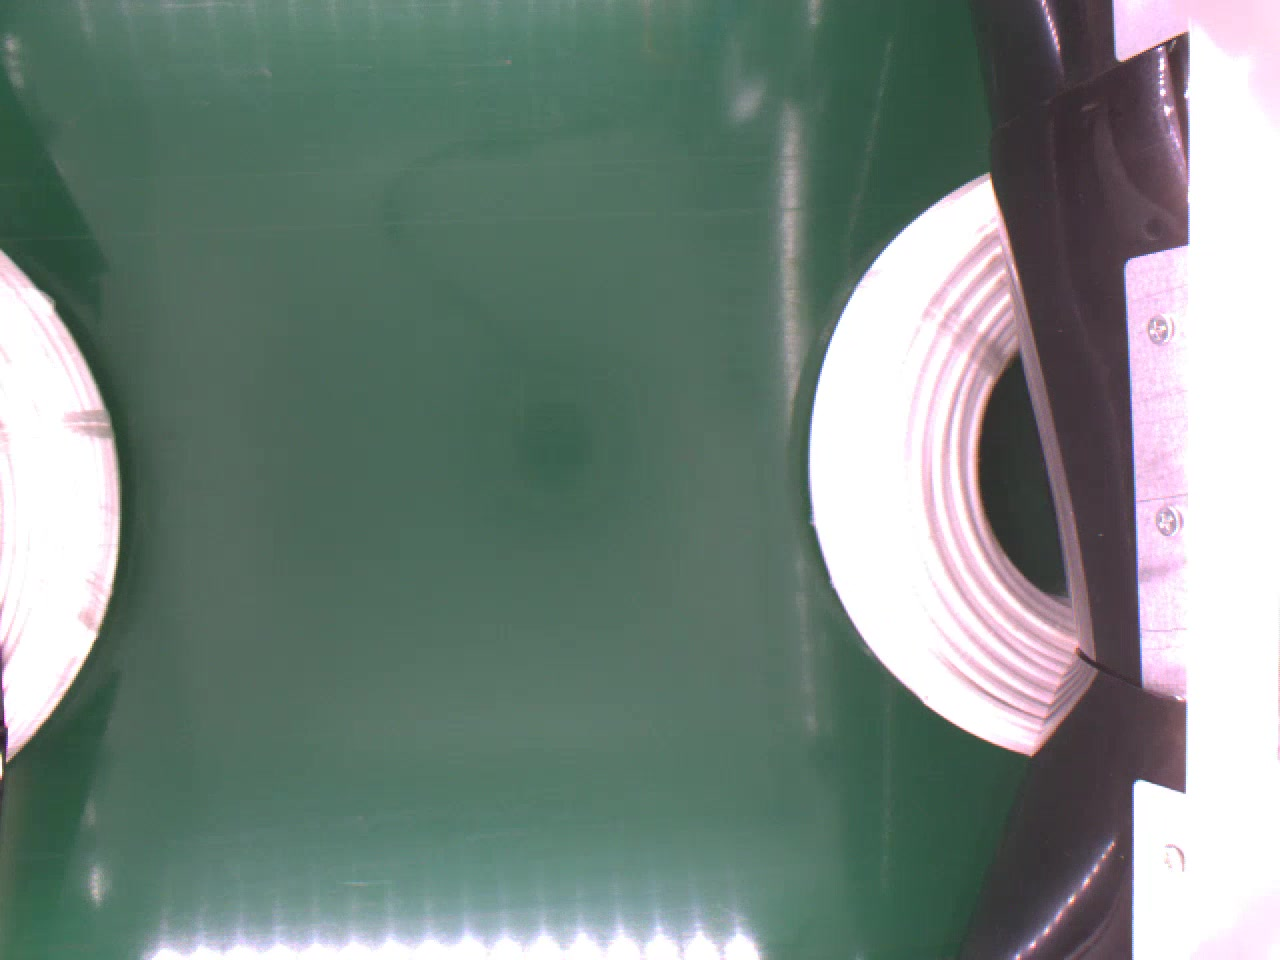white: (804, 154, 1090, 763)
